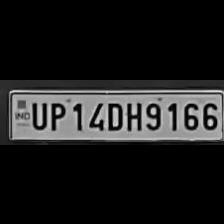1: (67, 98, 85, 130), (163, 99, 179, 130)
4: (86, 98, 104, 130)
6: (180, 98, 198, 130), (200, 98, 218, 130)
9: (142, 98, 162, 130)
D: (104, 98, 122, 130)
H: (124, 98, 142, 130)
P: (46, 98, 66, 130)
U: (28, 98, 46, 130)
